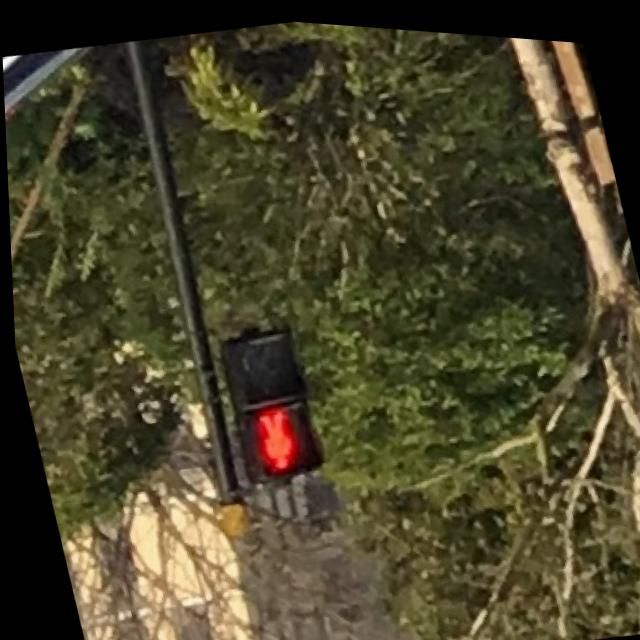red_light: (233, 394, 319, 476)
